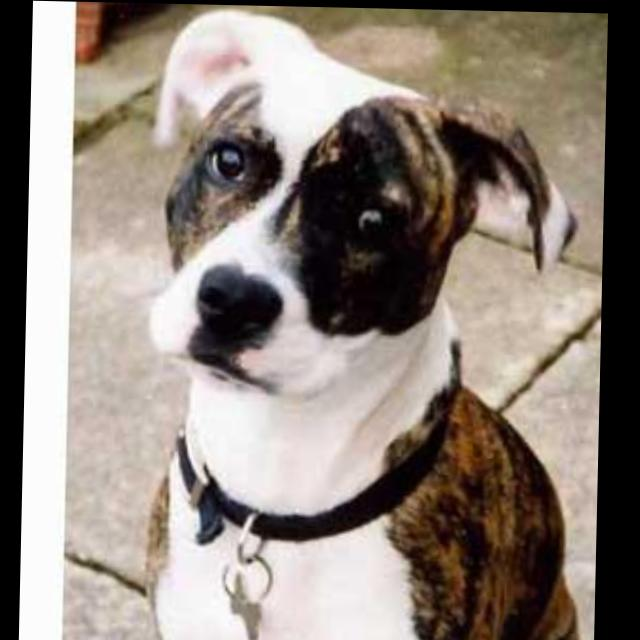staffford: (141, 84, 600, 640)
